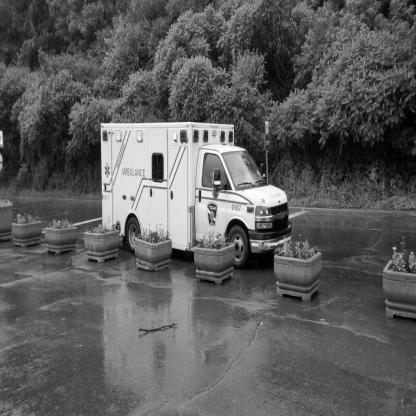bus: (90, 104, 303, 299)
